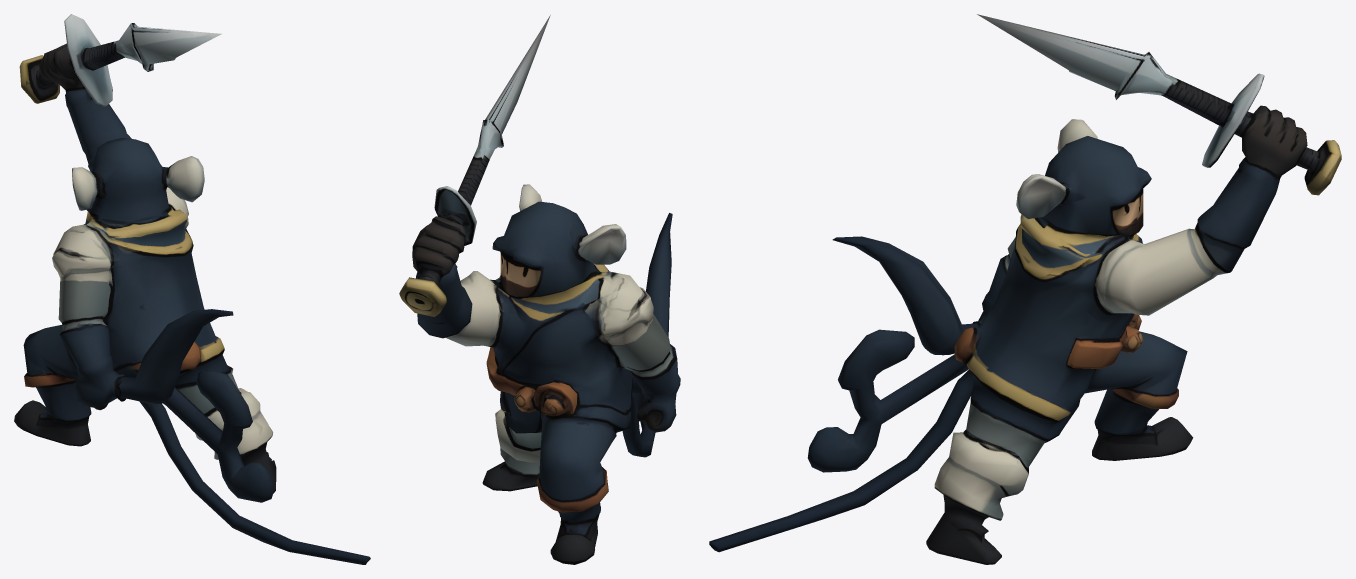
Rendered from ratcatchers_dirk.glb.
3 renders of one model, left to right at view 1: azimuth 30°, elevation 25°; view 2: azimuth 150°, elevation 25°; view 3: azimuth 270°, elevation 25°, orthographic. The views are drawn at different scales.
Parts seen in each view (by area): view 1: base_model_path; view 2: base_model_path; view 3: base_model_path.
Boxes of the visible parts, box(x1,y1,x2,y2) form: base_model_path: box(14, 14, 370, 564); base_model_path: box(399, 15, 680, 564); base_model_path: box(709, 14, 1341, 564).
Bounding box in the file's own units: 0.356 × 0.7863 × 0.8665.
Materials: 1 (1 with a texture image).
